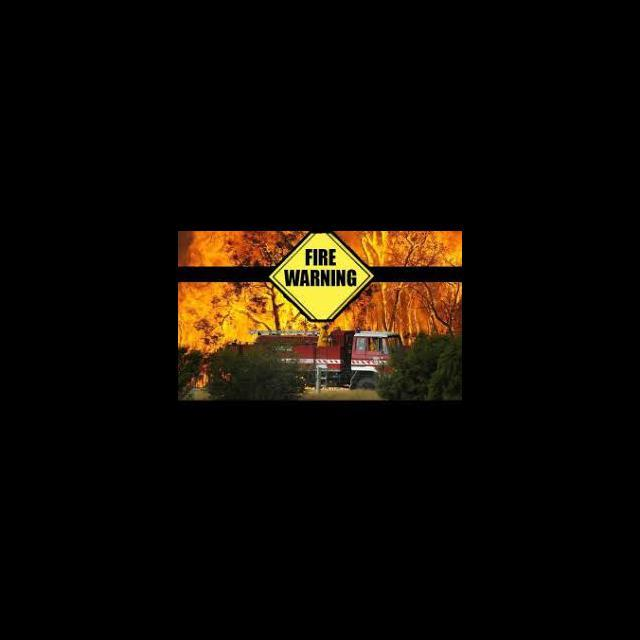Fire: (336, 283, 462, 334), (178, 283, 272, 335), (334, 232, 462, 267), (178, 232, 307, 265), (273, 287, 306, 319), (274, 318, 308, 332), (194, 373, 210, 388), (308, 323, 341, 330)
